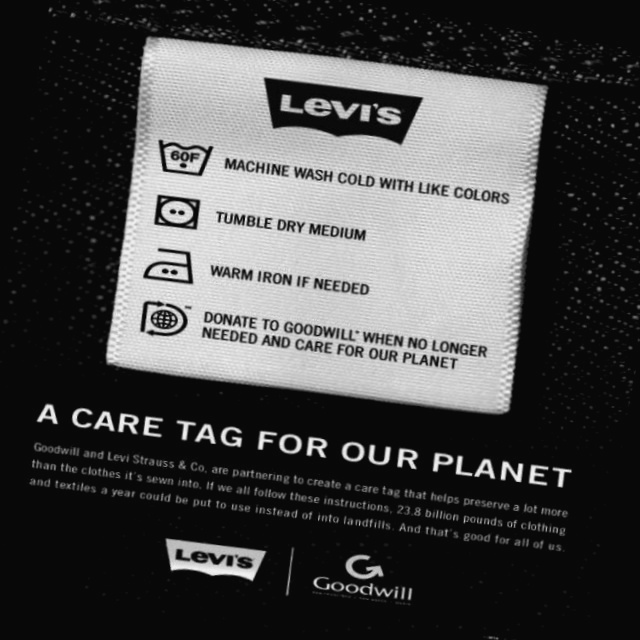30C: (151, 128, 220, 185)
iron_medium: (138, 238, 204, 293)
tumble_dry_medium: (146, 189, 208, 238)
